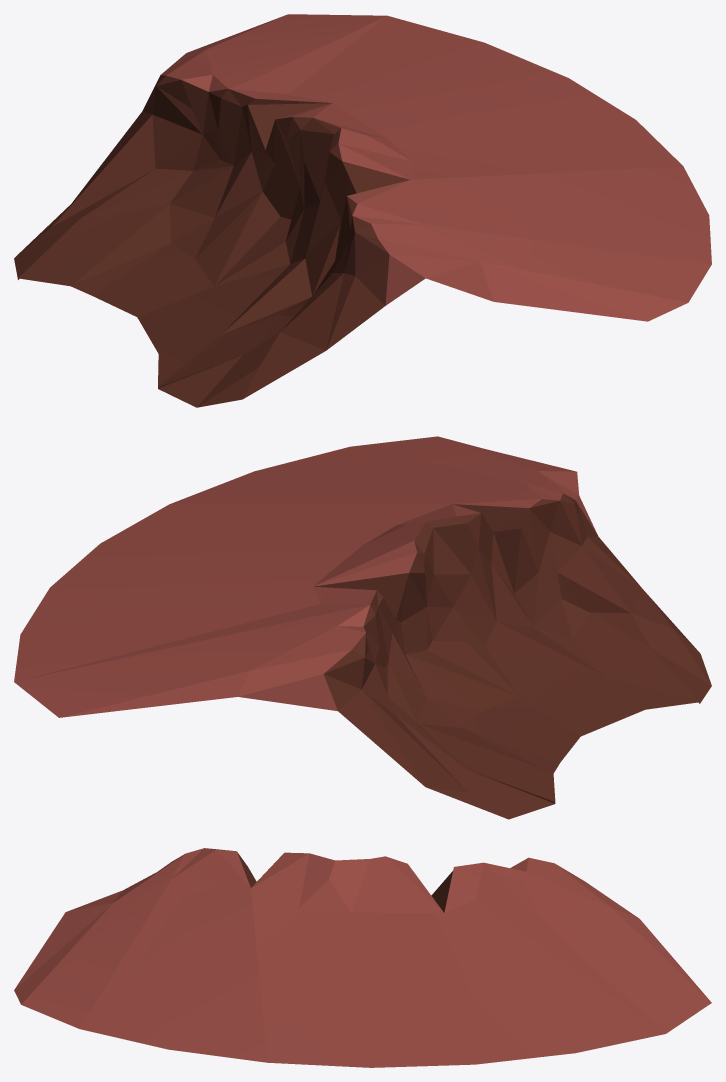
The model's file is entity115378.glb.
3 views of the same model, one above another, from view 1: azimuth 30°, elevation 25°; view 2: azimuth 150°, elevation 25°; view 3: azimuth 270°, elevation 25° (orthographic). The views are drawn at different scales.
Parts seen in each view (by area): view 1: node_SM_Env_Crater_Edge_04 (3); view 2: node_SM_Env_Crater_Edge_04 (3); view 3: node_SM_Env_Crater_Edge_04 (3).
Part boxes in pixels (left/top/right/bottom): node_SM_Env_Crater_Edge_04 (3): left=14, top=14, right=711, bottom=407; node_SM_Env_Crater_Edge_04 (3): left=14, top=436, right=711, bottom=819; node_SM_Env_Crater_Edge_04 (3): left=14, top=848, right=711, bottom=1067.
Bounding box in the file's own units: 55.27 × 16.43 × 69.75.
1 material, 1 textured.
